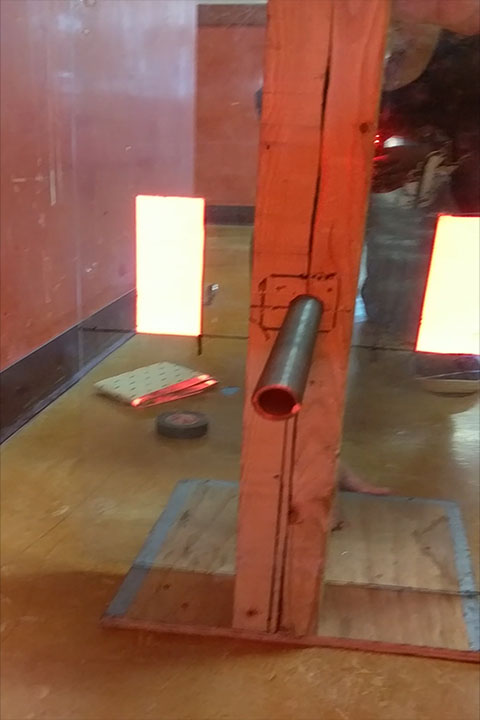gear: (135, 196, 204, 338), (414, 213, 480, 355)
